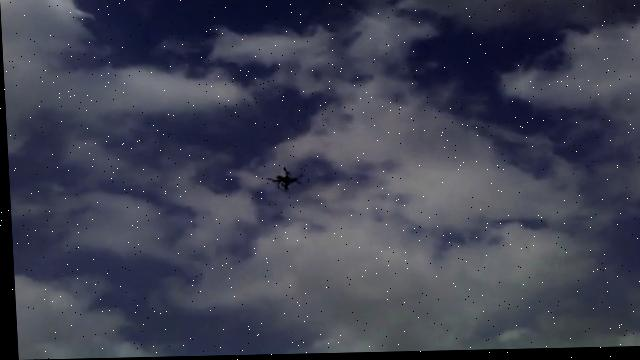drone: (263, 164, 300, 195)
